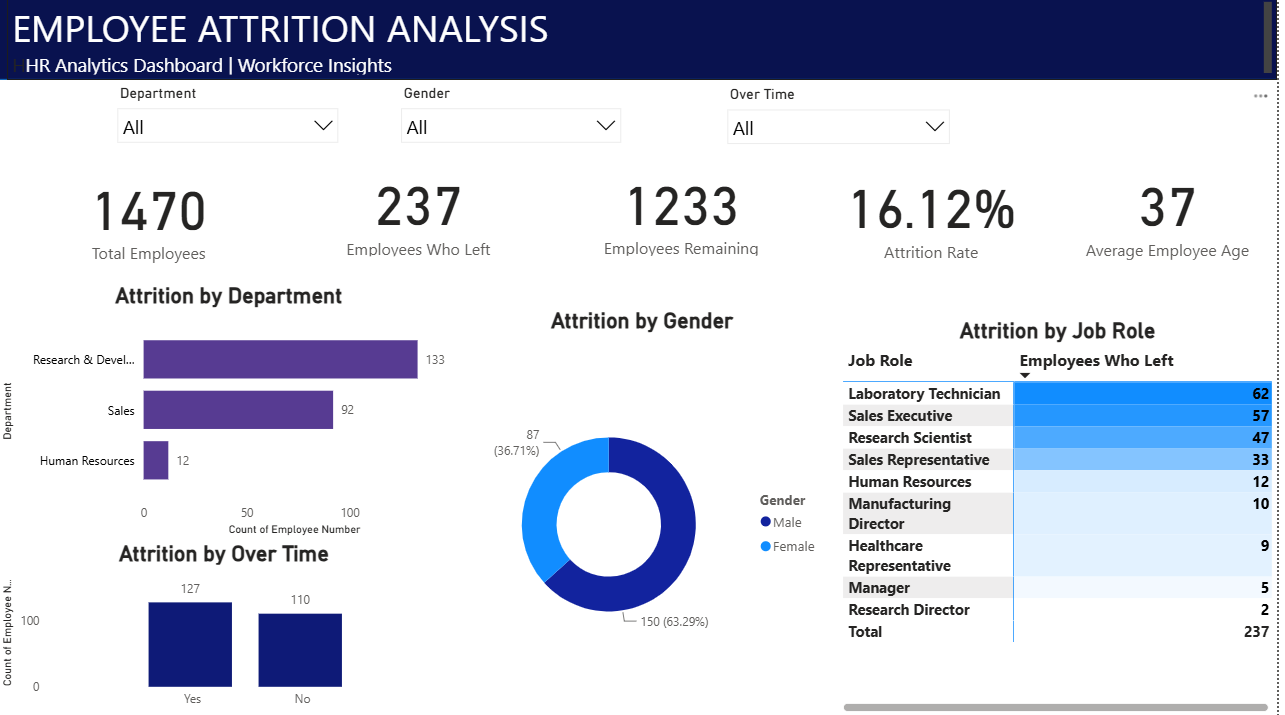

This screenshot's page, from the dashboard's own definition file:
{"tool":"powerbi","page":{"name":"Page 1","canvas":[1280,720],"ordinal":0},"visuals":[{"type":"card","fields":{"Values":["EmployeeAttrition.Total Employees"]},"box":[42.5,162.5,218.8,110],"z":0},{"type":"clusteredBarChart","title":"Attrition by Department","fields":{"Category":["EmployeeAttrition.Department"],"Y":["Count(EmployeeAttrition.Employee Number)"]},"box":[0,286.2,463.8,257.5],"z":1000},{"type":"pivotTable","title":" Attrition by Job Role","fields":{"Rows":["EmployeeAttrition.Job Role"],"Values":["CountNonNull(EmployeeAttrition.Employee Number)"]},"box":[841.2,321.2,438.8,398.8],"z":2000},{"type":"clusteredColumnChart","title":"Attrition by Over Time","fields":{"Category":["EmployeeAttrition.Over Time"],"Y":["CountNonNull(EmployeeAttrition.Employee Number)"]},"box":[0,543.8,453.8,176.2],"z":3000},{"type":"slicer","fields":{"Values":["EmployeeAttrition.Gender"]},"box":[393.8,82.3,240.1,78.2],"z":4000},{"type":"slicer","fields":{"Values":["EmployeeAttrition.Department"]},"box":[109.8,82.3,241.5,78.2],"z":5000},{"type":"shape","box":[0,0,1280,82.9],"z":6000},{"type":"slicer","fields":{"Values":["EmployeeAttrition.Over Time"]},"box":[720,84.3,242.9,78.2],"z":7000},{"type":"donutChart","title":"Attrition by Gender","fields":{"Category":["EmployeeAttrition.Gender"],"Y":["CountNonNull(EmployeeAttrition.Employee Number)"]},"box":[456.2,311.2,377.5,408.8],"z":8000},{"type":"textbox","box":[10,0,1270,82.9],"z":9000},{"type":"card","fields":{"Values":["EmployeeAttrition.Employees Who Left"]},"box":[312.5,162.5,218.2,101.5],"z":10000},{"type":"card","fields":{"Values":["EmployeeAttrition.Employees Remaining"]},"box":[575,161.2,218.8,102.5],"z":11000},{"type":"card","fields":{"Values":["EmployeeAttrition.Attrition Rate"]},"box":[825,161.2,218.8,110],"z":12000},{"type":"card","fields":{"Values":["EmployeeAttrition.Average Employee Age"]},"box":[1061.2,161.2,218.8,106.2],"z":13000}]}

Visuals, with their boxes in screenshot pixels (x1, y1, x2, y2), scaled from the page's 1280x720 canvas onto the 1285x715 screenshot:
card - EmployeeAttrition.Total Employees: box=[43, 161, 262, 271]
"Attrition by Department" clusteredBarChart: box=[0, 284, 466, 540]
" Attrition by Job Role" pivotTable: box=[844, 319, 1284, 714]
"Attrition by Over Time" clusteredColumnChart: box=[0, 540, 456, 714]
slicer - EmployeeAttrition.Gender: box=[395, 82, 636, 159]
slicer - EmployeeAttrition.Department: box=[110, 82, 353, 159]
shape: box=[0, 0, 1284, 82]
slicer - EmployeeAttrition.Over Time: box=[723, 84, 967, 161]
"Attrition by Gender" donutChart: box=[458, 309, 837, 714]
textbox: box=[10, 0, 1284, 82]
card - EmployeeAttrition.Employees Who Left: box=[314, 161, 533, 262]
card - EmployeeAttrition.Employees Remaining: box=[577, 160, 797, 262]
card - EmployeeAttrition.Attrition Rate: box=[828, 160, 1048, 269]
card - EmployeeAttrition.Average Employee Age: box=[1065, 160, 1284, 266]
